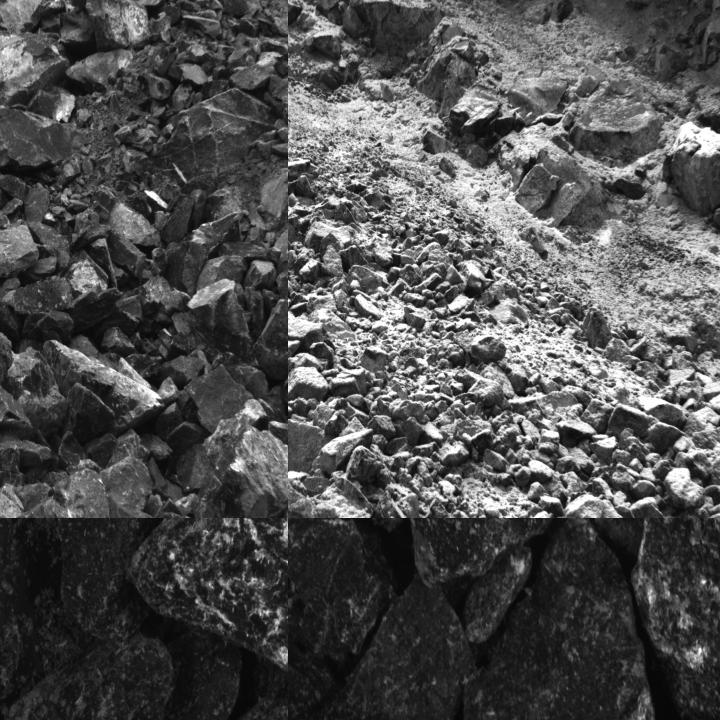stone: (456, 518, 666, 719), (129, 518, 287, 719), (312, 565, 479, 719), (410, 518, 632, 612), (48, 518, 199, 640), (630, 518, 719, 719), (288, 518, 402, 671), (0, 634, 178, 719), (150, 87, 276, 188), (562, 80, 662, 168), (192, 427, 287, 517), (288, 582, 346, 719), (158, 632, 246, 719), (464, 545, 532, 649), (164, 212, 241, 296), (0, 25, 69, 110), (660, 121, 719, 215), (178, 362, 252, 434), (252, 297, 287, 382), (0, 276, 74, 316), (105, 202, 170, 245), (314, 428, 373, 475), (314, 477, 373, 517), (65, 249, 111, 295), (288, 420, 325, 473), (346, 447, 390, 490), (107, 233, 150, 276), (662, 466, 705, 509), (24, 86, 74, 122), (197, 255, 248, 290), (606, 402, 657, 436), (0, 0, 46, 33), (162, 195, 195, 240), (226, 64, 278, 92), (217, 240, 280, 263), (288, 366, 329, 400), (23, 223, 70, 251), (288, 471, 316, 517), (288, 317, 323, 353), (139, 275, 170, 315), (58, 11, 93, 45), (582, 308, 611, 349), (271, 417, 287, 491), (456, 419, 494, 450), (557, 418, 599, 446), (182, 8, 222, 37), (648, 424, 684, 456), (330, 368, 368, 398), (514, 460, 554, 488), (167, 58, 210, 84), (244, 258, 276, 291), (470, 335, 507, 363), (23, 185, 49, 224), (562, 495, 605, 517), (0, 172, 30, 203), (310, 29, 340, 60), (269, 75, 287, 124), (276, 213, 287, 290), (590, 436, 618, 466), (160, 288, 190, 315), (148, 74, 175, 102), (288, 175, 318, 199), (320, 246, 344, 276), (360, 346, 387, 371), (259, 38, 287, 62), (482, 448, 510, 472), (354, 294, 382, 318), (0, 331, 12, 386), (630, 497, 663, 517), (222, 0, 262, 15), (538, 495, 564, 517), (277, 254, 287, 310), (288, 159, 311, 182), (652, 459, 677, 480), (632, 480, 657, 500), (554, 456, 581, 474), (600, 498, 625, 517), (592, 478, 614, 499), (299, 259, 320, 281), (288, 340, 301, 374), (288, 215, 303, 243), (288, 0, 303, 26), (528, 482, 544, 503), (63, 0, 93, 10), (710, 386, 719, 419), (273, 144, 287, 160), (277, 127, 287, 144)
